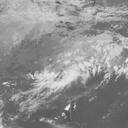cyclone: (38, 48, 96, 95)
